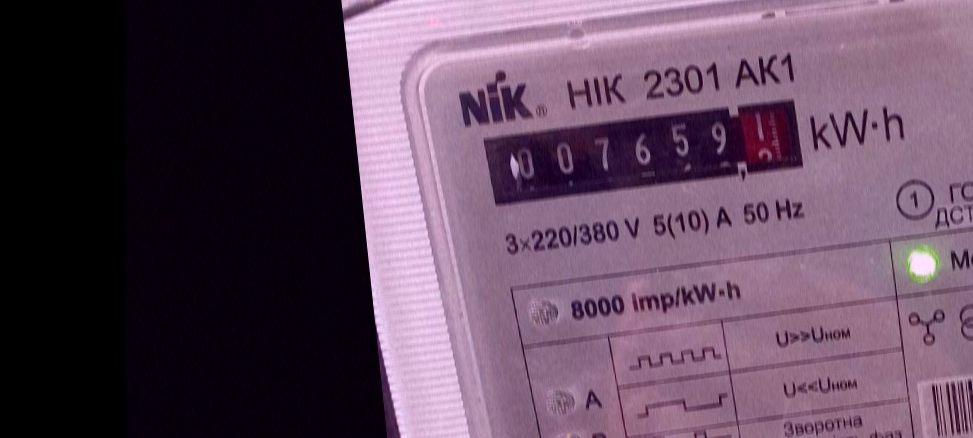0: (554, 138, 581, 177), (515, 142, 540, 183)
1: (752, 107, 771, 144)
5: (671, 120, 694, 159)
6: (631, 129, 657, 167)
7: (591, 133, 616, 173)
9: (709, 118, 733, 157)
screen: (475, 92, 816, 215)
